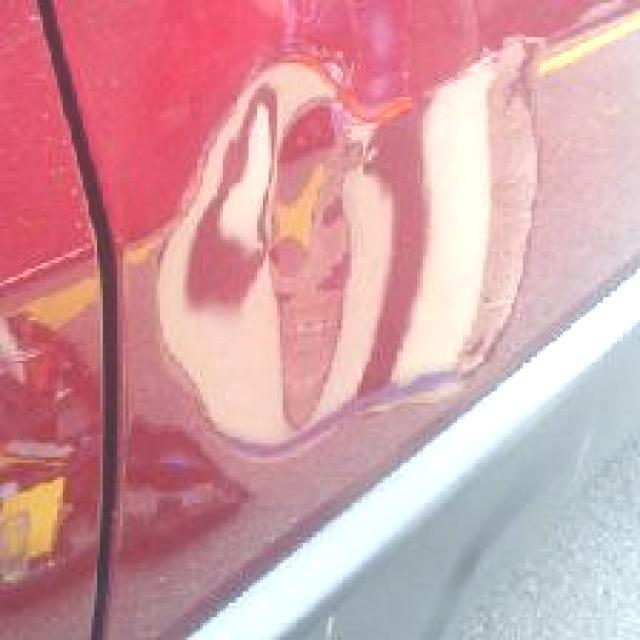minor: (133, 15, 582, 486)
